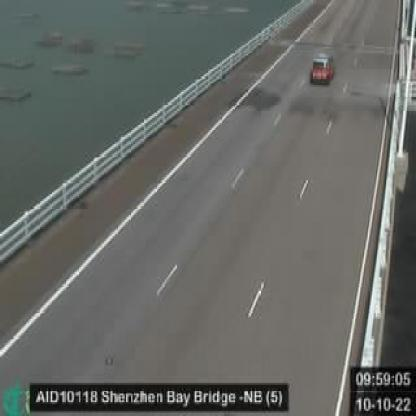Car: (310, 52, 336, 85)
